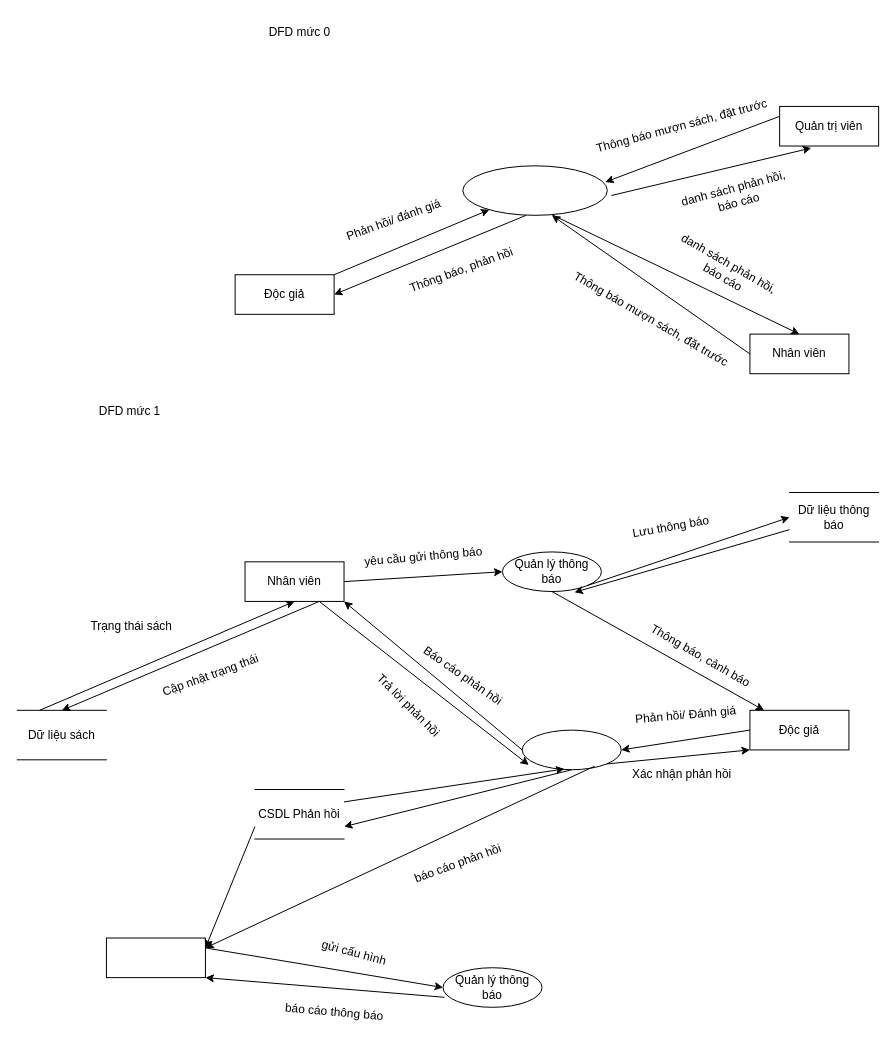
This 896x1049 diagram has some shape labels left out. Each missing label, with the centre of its shape:
"Quản lý phản hồi, đánh giá" belongs at (x=571, y=749).
"Quản lý thông báo và phản hồi" belongs at (x=534, y=190).
"Quản trị" belongs at (x=155, y=957).
